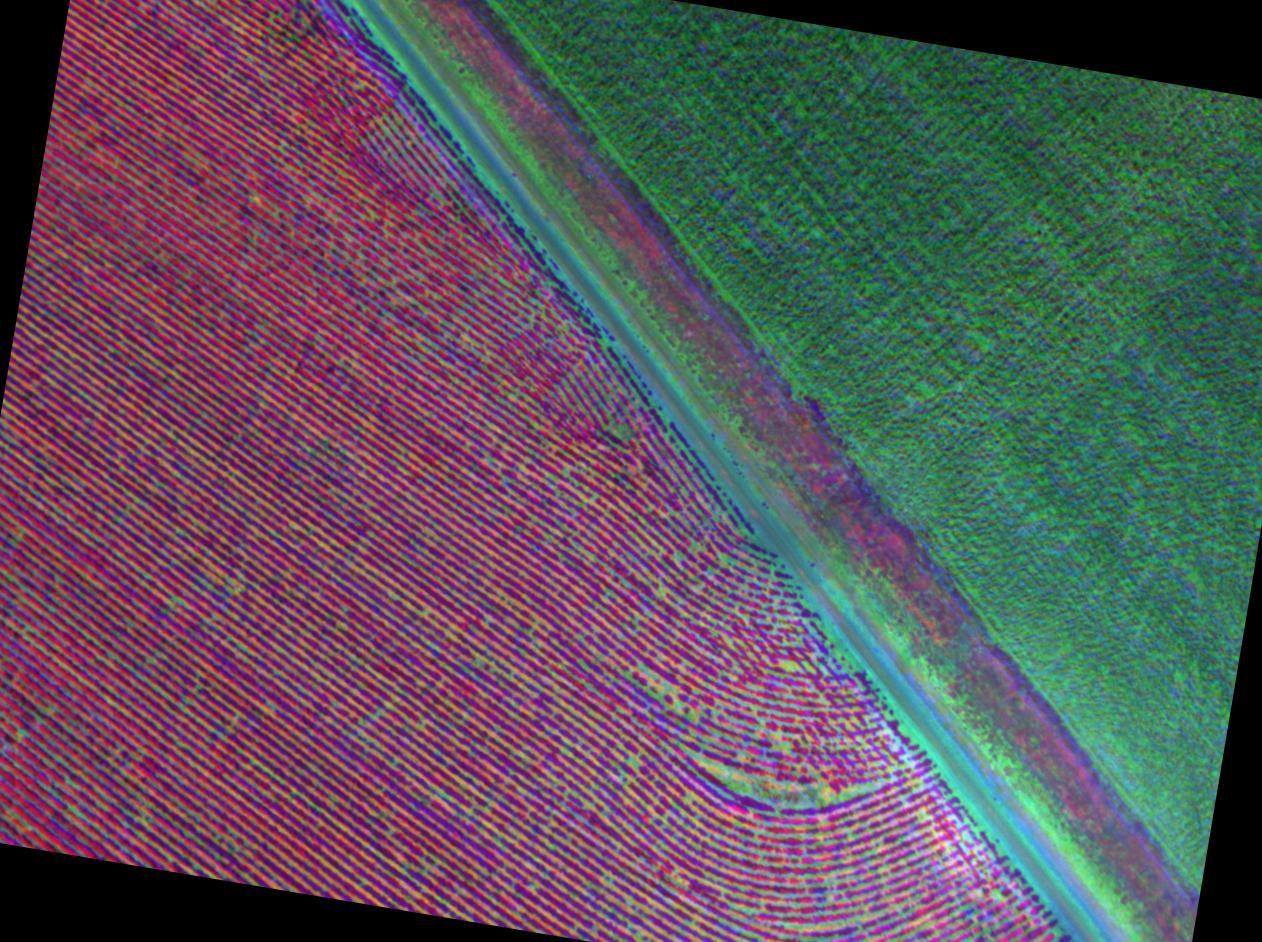dc: (688, 750, 891, 830), (763, 890, 929, 942), (741, 588, 822, 678), (408, 765, 490, 850), (626, 670, 713, 737)
